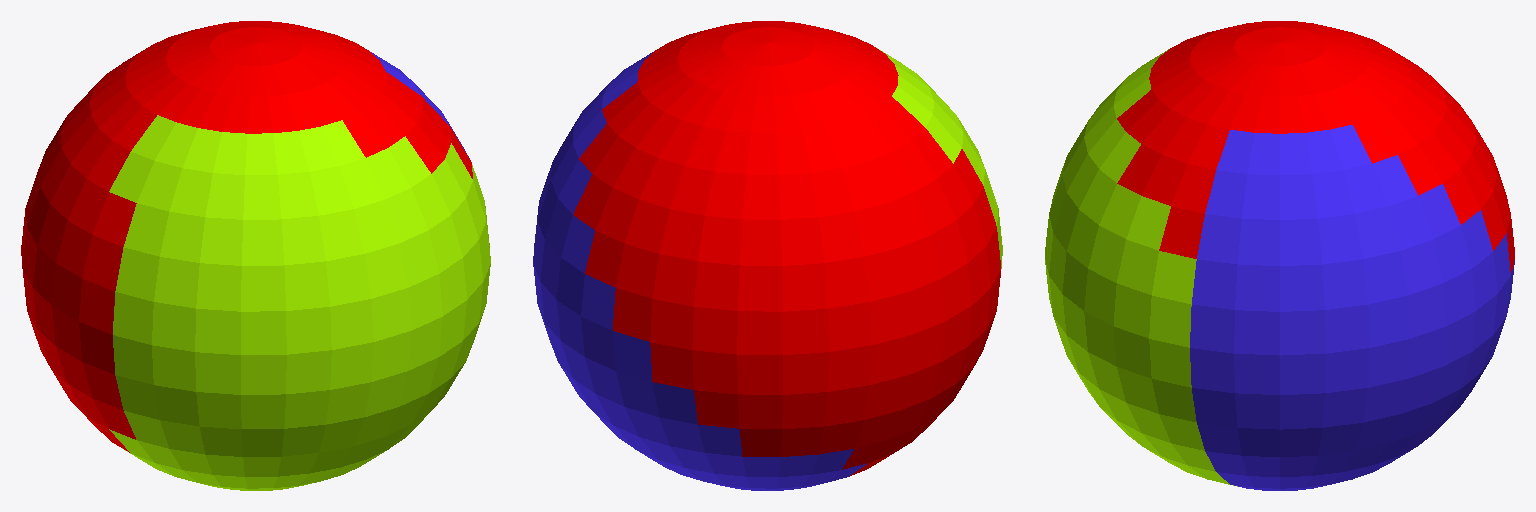
File: mobj.obj
The picture shows the model from 3 angles: view 1: azimuth 30°, elevation 25°; view 2: azimuth 150°, elevation 25°; view 3: azimuth 270°, elevation 25°; orthographic projection.
Parts seen in each view (by area): view 1: Sphere005; view 2: Sphere005; view 3: Sphere005.
Part boxes in pixels (x1,y1,x2,y2): Sphere005: (21, 21, 490, 490); Sphere005: (533, 21, 1002, 490); Sphere005: (1045, 21, 1514, 490).
Size of the model in its own units: 1050 by 1050 by 1050.